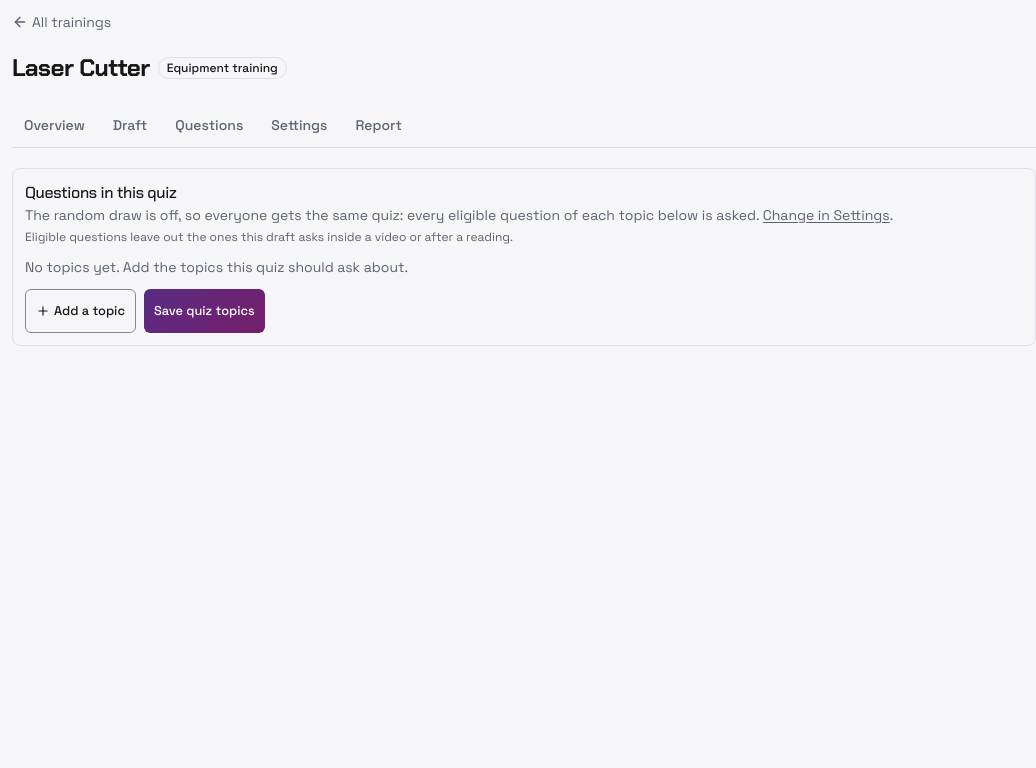
Scenario: BlueprintEditor › does not offer a topic twice, and can remove one
Expected: the heading "Laser Cutter" is shown, top-left (12, 52), bottom-right (150, 84)
Click the button "Add a topic" at (80, 311), box top-left (25, 289), bottom-right (136, 333)
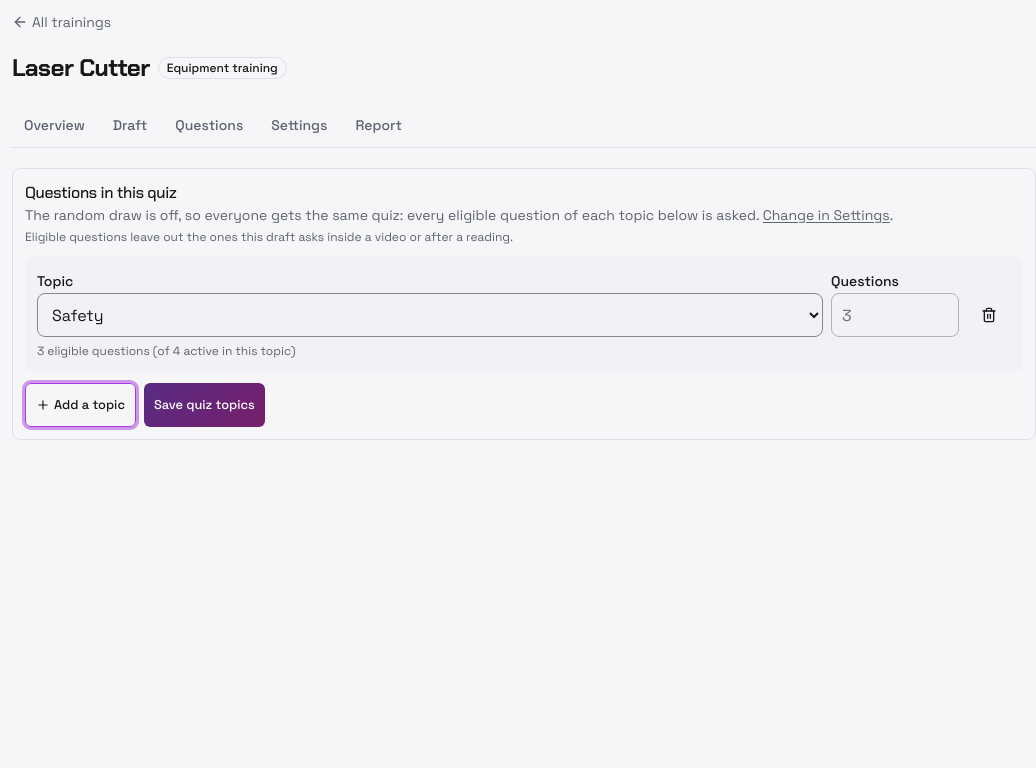
Click the button "Add a topic" at (80, 405), box top-left (25, 383), bottom-right (136, 427)
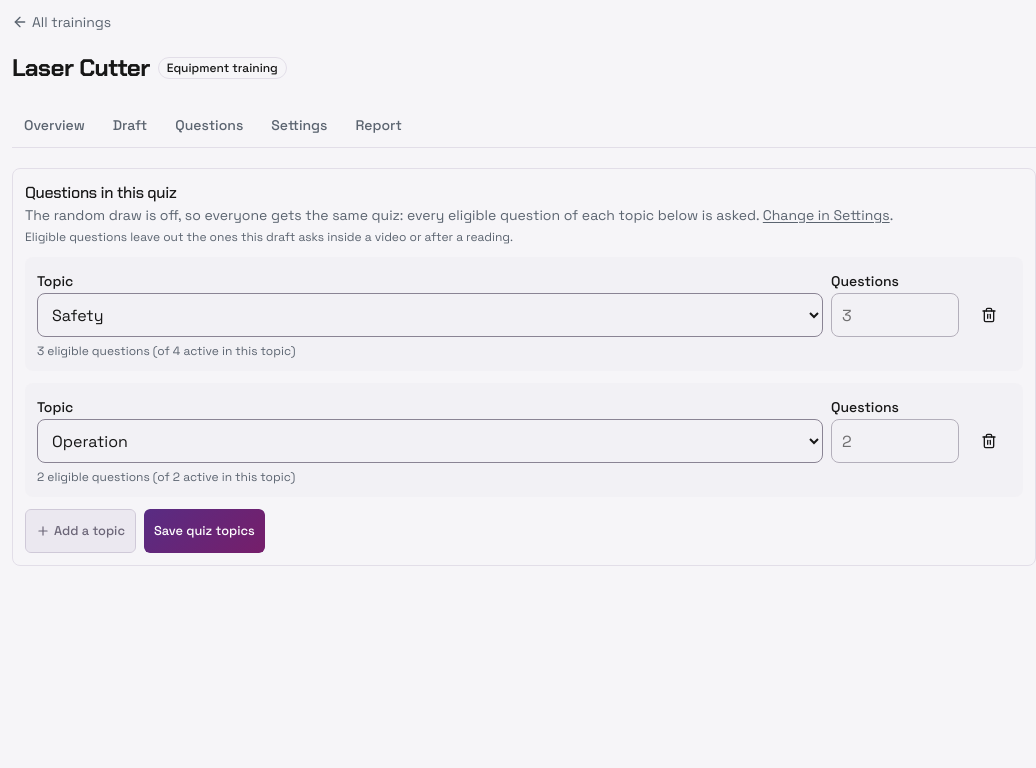
Now the button "Add a topic" is disabled, box top-left (25, 509), bottom-right (136, 553)
Click the button named "remove safety from the quiz" at (989, 315), box top-left (967, 293), bottom-right (1011, 337)
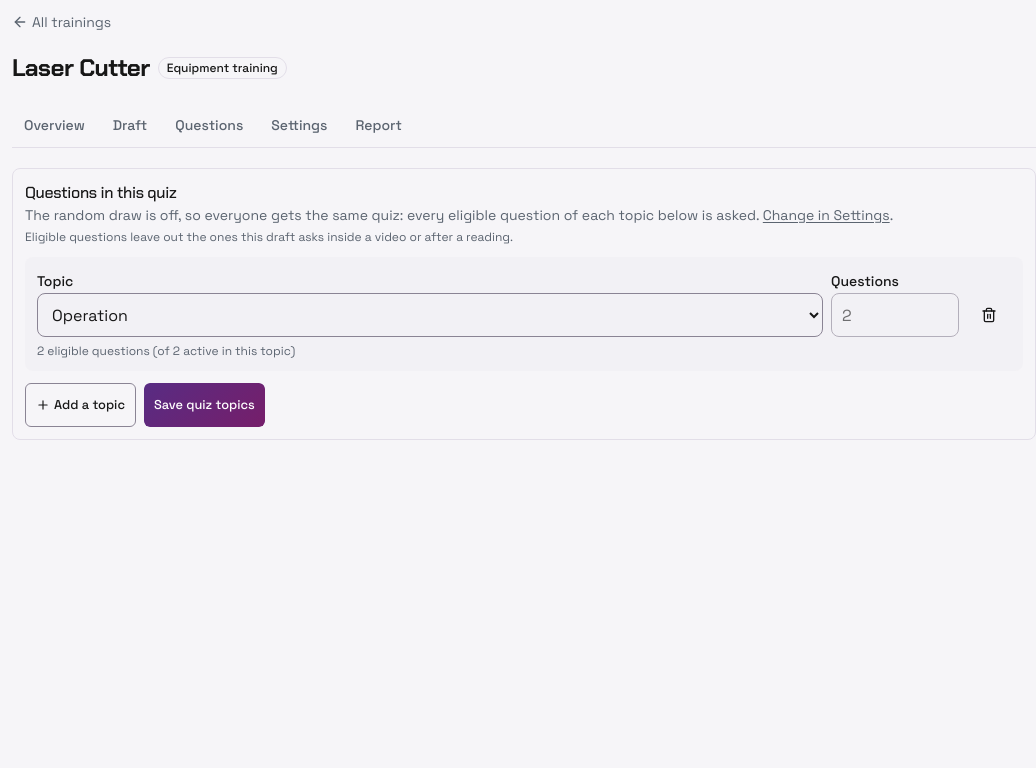
Now the button "Add a topic" is enabled, box top-left (25, 383), bottom-right (136, 427)
